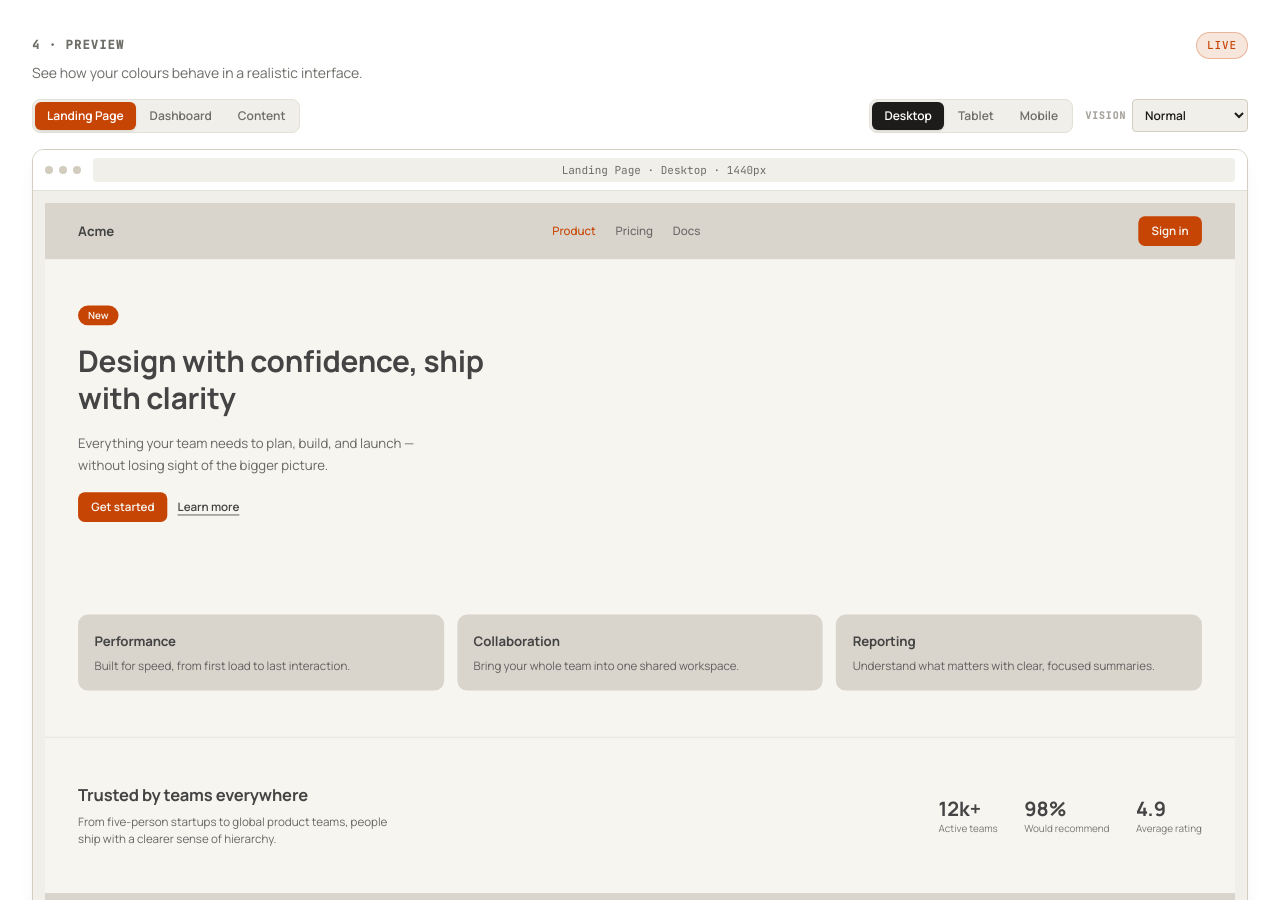
Test: PreviewPanel › switches templates without needing a reload
Click the tab "Dashboard" at (181, 116), box [138, 102, 224, 130]
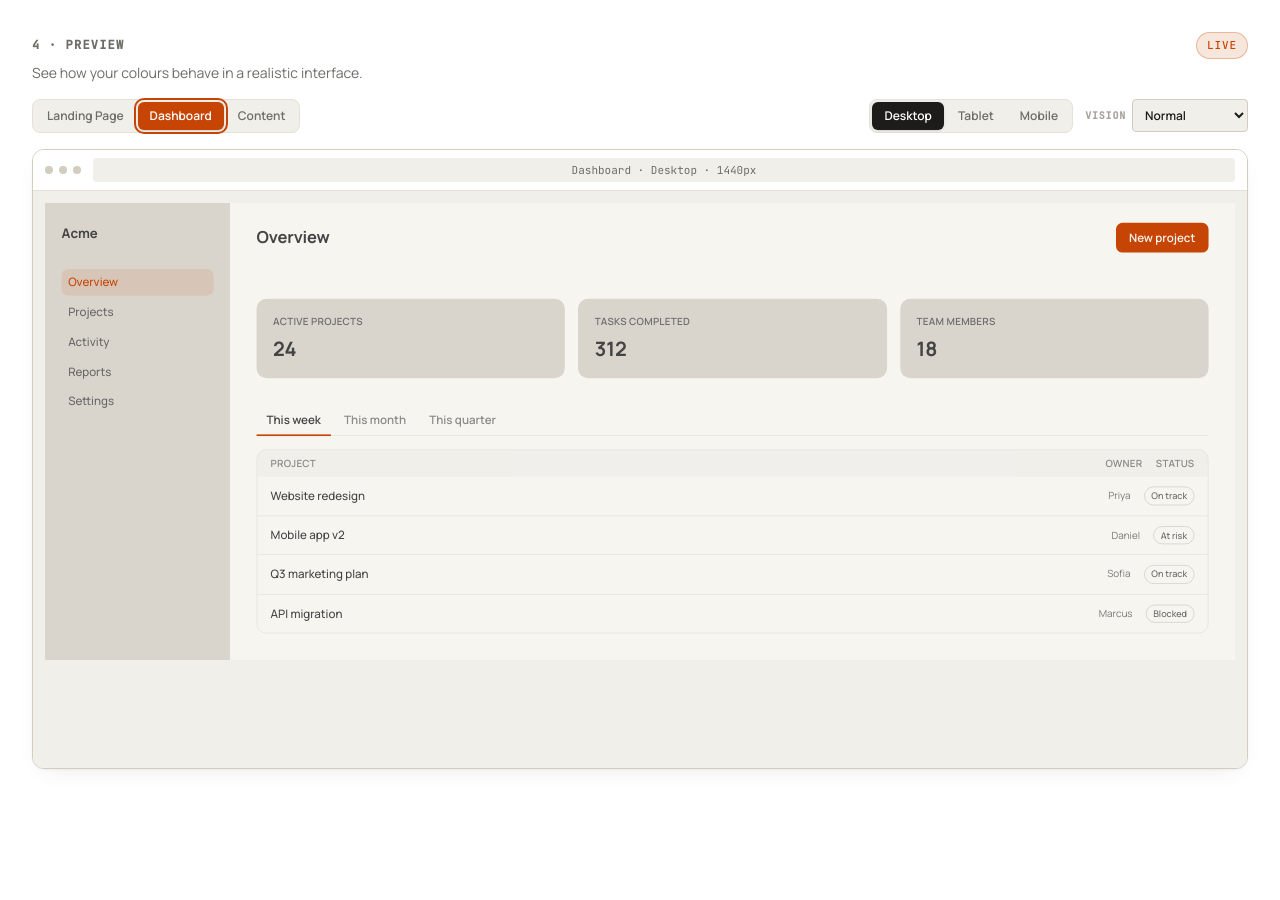
Expected: the link "Overview" is shown, [62, 269, 214, 296]
Expected: the heading "Design with confidence, ship with clarity" is gone
